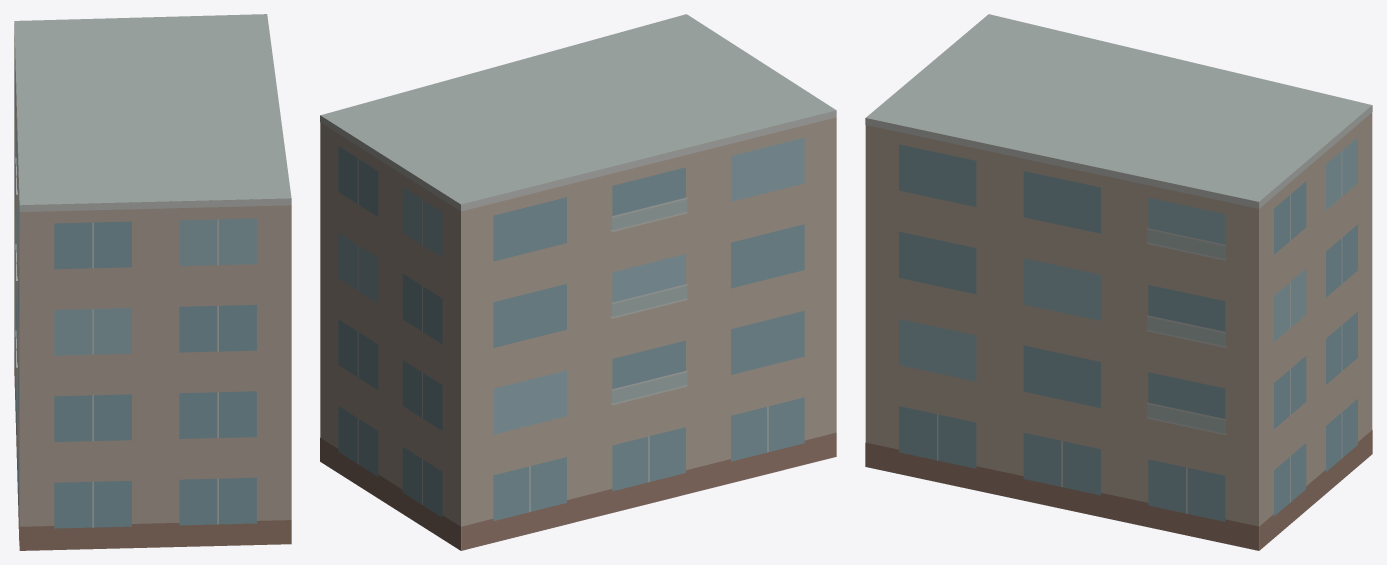
The model's file is survey-upis-32597250.glb.
The picture shows the model from 3 angles, left to right: view 1: azimuth 30°, elevation 25°; view 2: azimuth 150°, elevation 25°; view 3: azimuth 270°, elevation 25°; orthographic projection.
Parts seen in each view (by area): view 1: survey-upis-32597250.tmp; view 2: survey-upis-32597250.tmp; view 3: survey-upis-32597250.tmp.
Boxes of the visible parts, x1=… form: survey-upis-32597250.tmp: x1=14, y1=14, x2=291, y2=550; survey-upis-32597250.tmp: x1=320, y1=14, x2=836, y2=550; survey-upis-32597250.tmp: x1=865, y1=14, x2=1372, y2=550.
Bounding box in the file's own units: 14.1 × 12.2 × 16.07.
